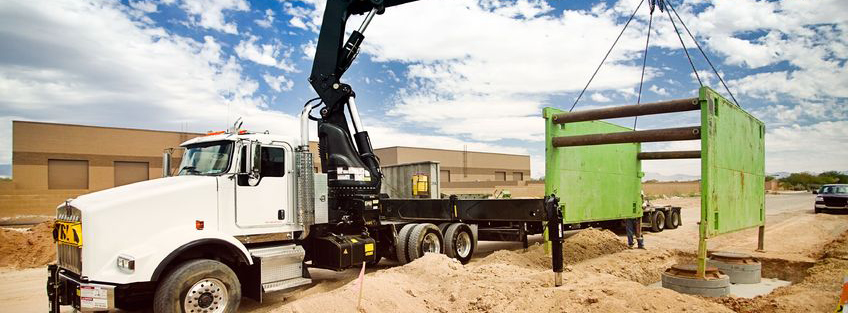truck: (43, 1, 569, 312)
